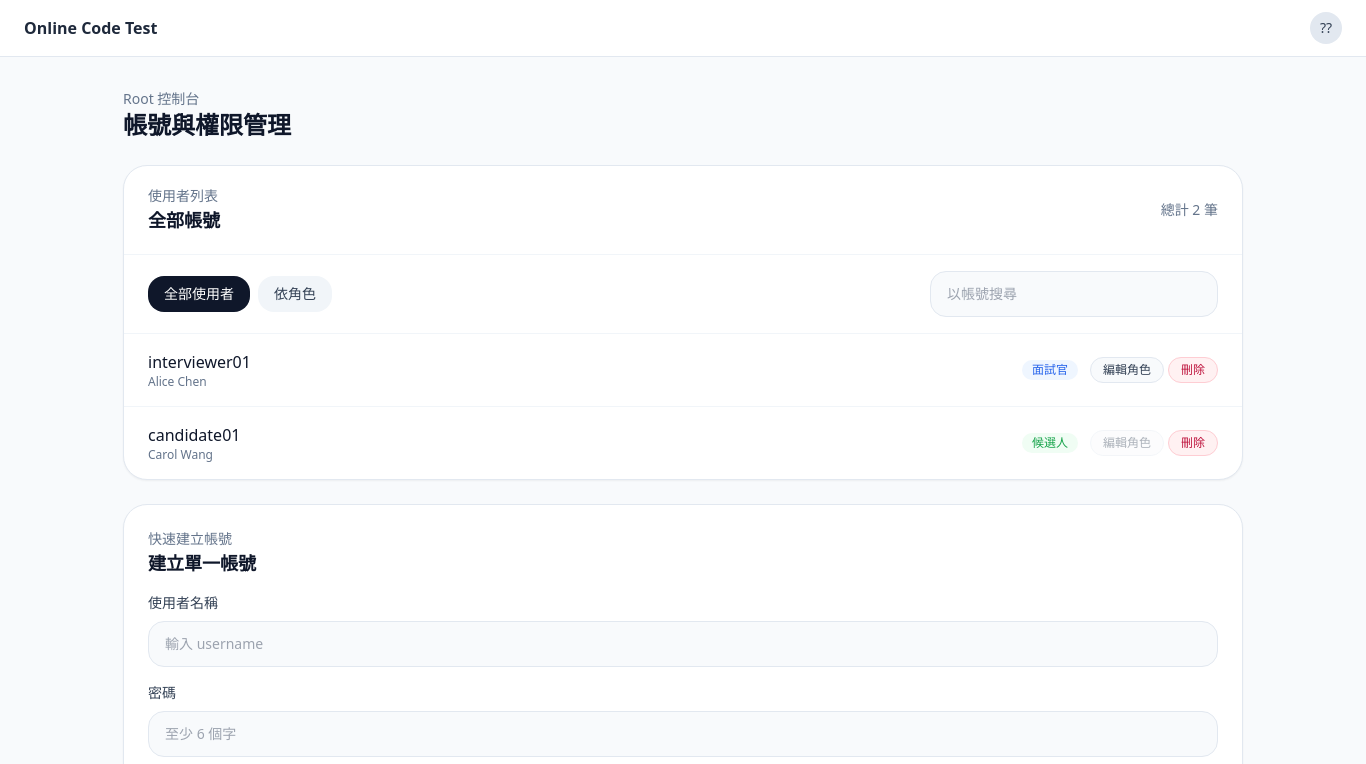
Test case: AdminDashboardPage() › filters by role when interviewer filter is selected
Expected: the text "interviewer01" is shown, left=148, top=350, right=251, bottom=374
Click the button "依角色" at (295,294), box left=258, top=276, right=332, bottom=312
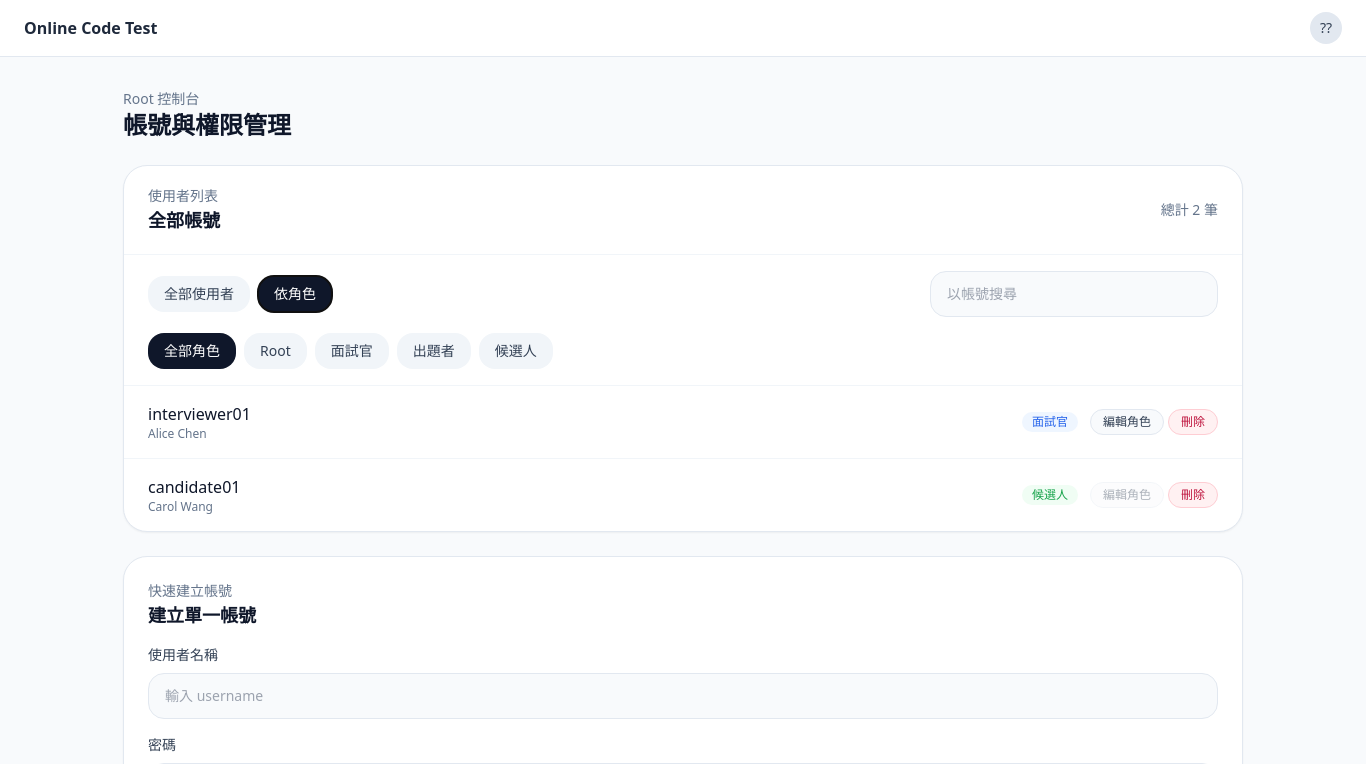
Click the button "面試官" at (352,351), box left=315, top=333, right=389, bottom=369
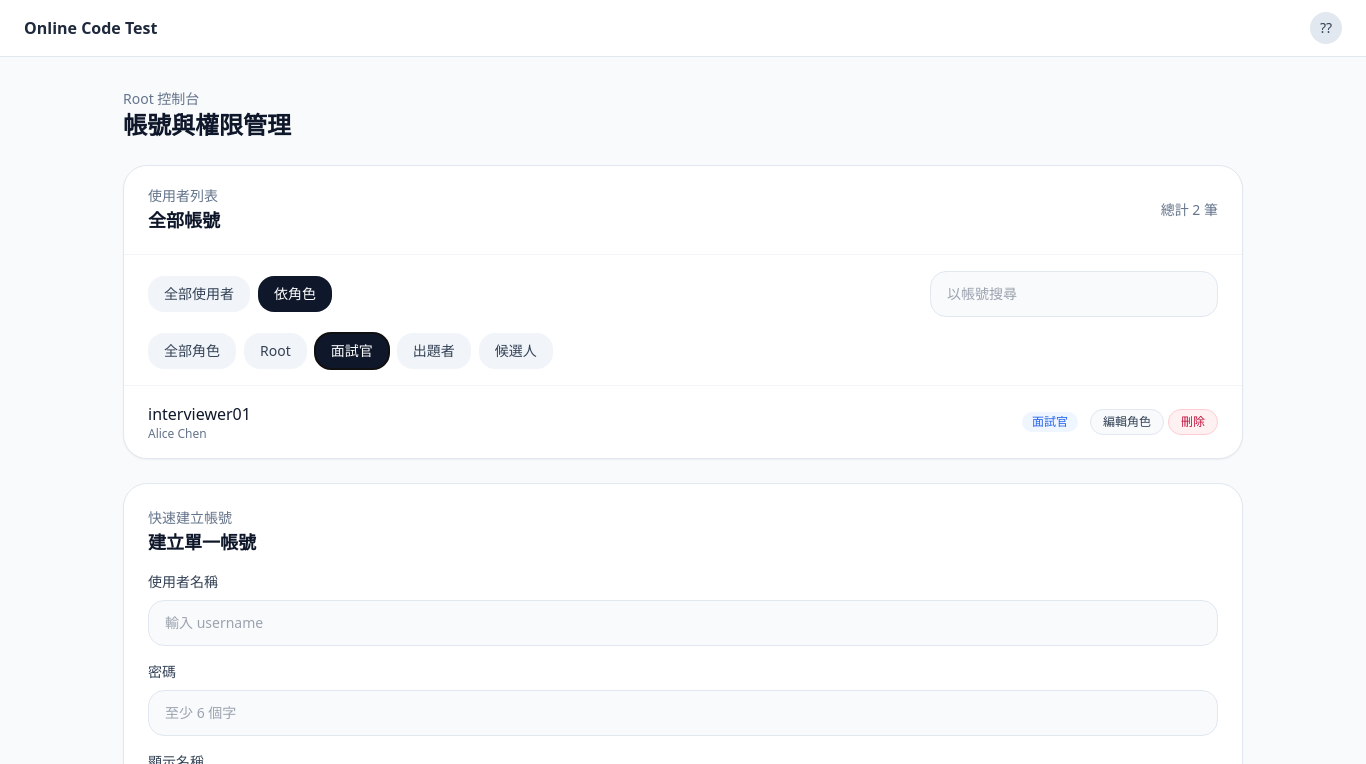
Expected: the text "interviewer01" is shown, left=148, top=402, right=251, bottom=426
Result: the text "candidate01" is gone
